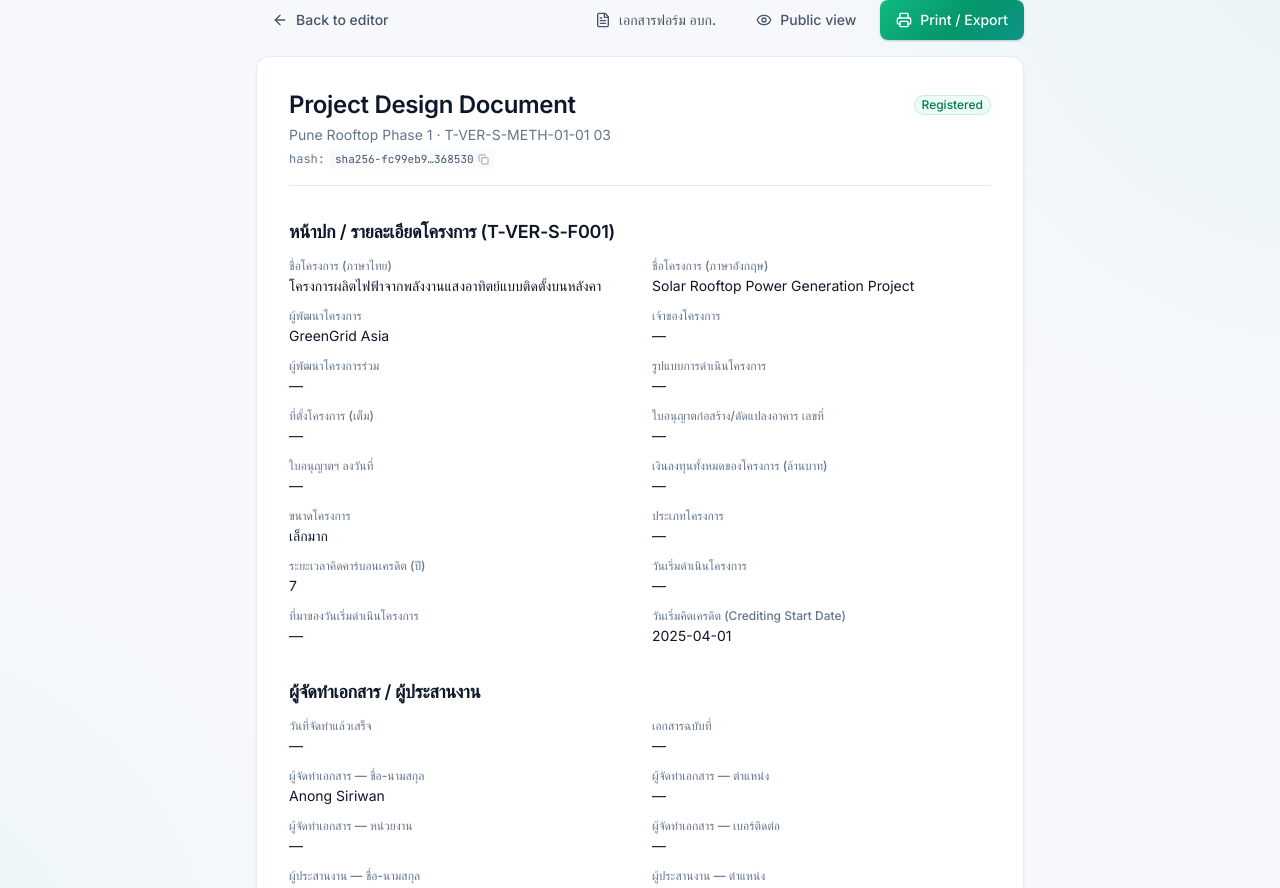
Test: PddDocument selective disclosure › Public view masks sensitive values
What coordinates should you click on to do the following:
click the button "Public view"
I would click on:
 (806, 20)
Its box is [740,0,872,40].
(page scrolled)
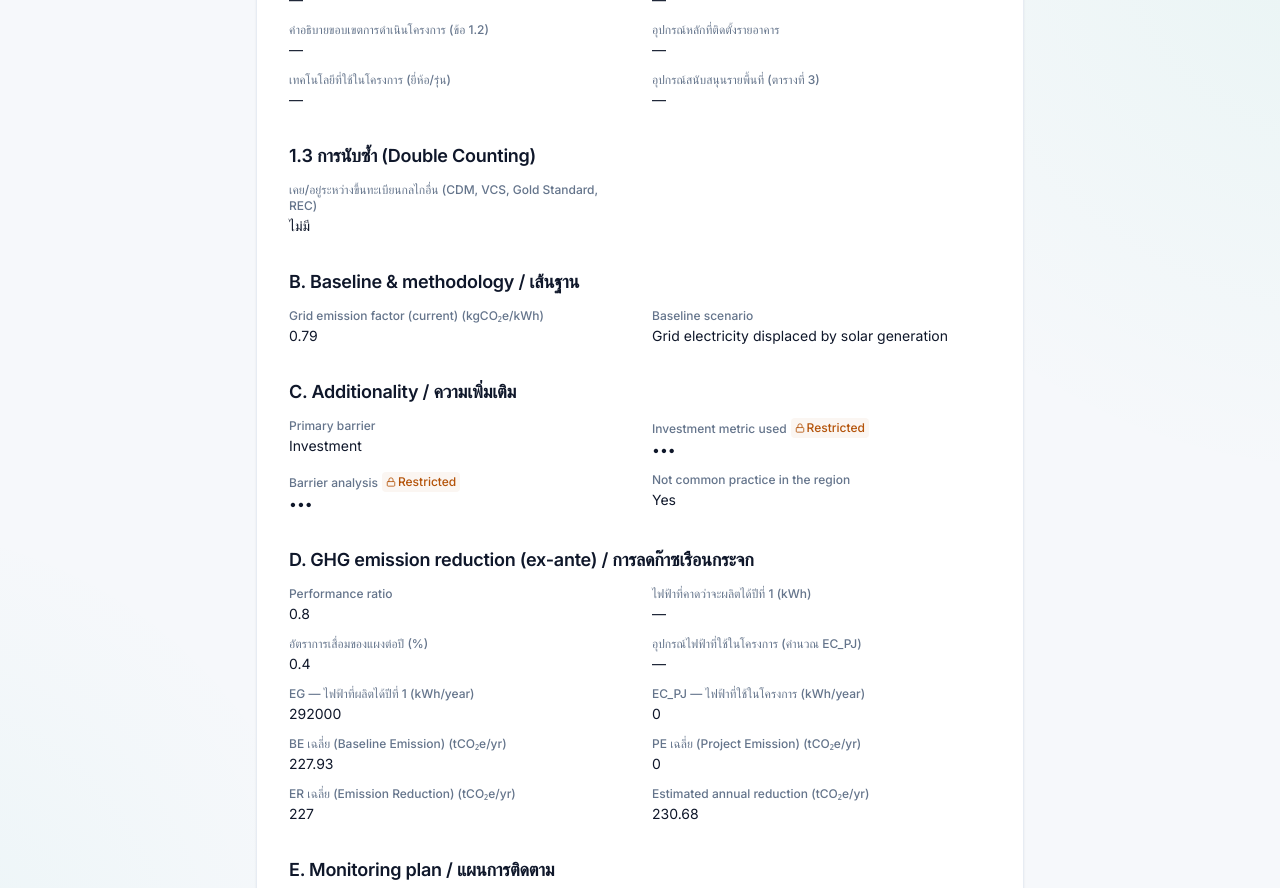
Check: the text "•••" below "Investment metric used" is shown, box [652,441,676,458]
